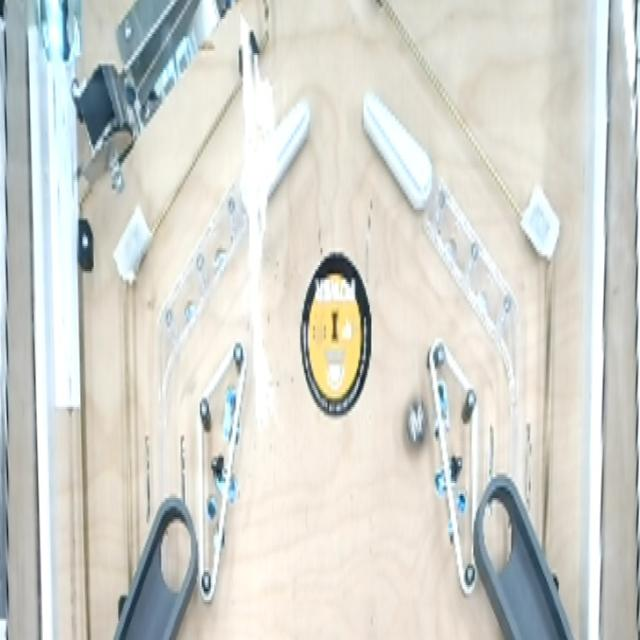ball: (402, 385, 429, 465)
flipper-left: (361, 86, 440, 244)
flipper-right: (240, 86, 315, 232)
